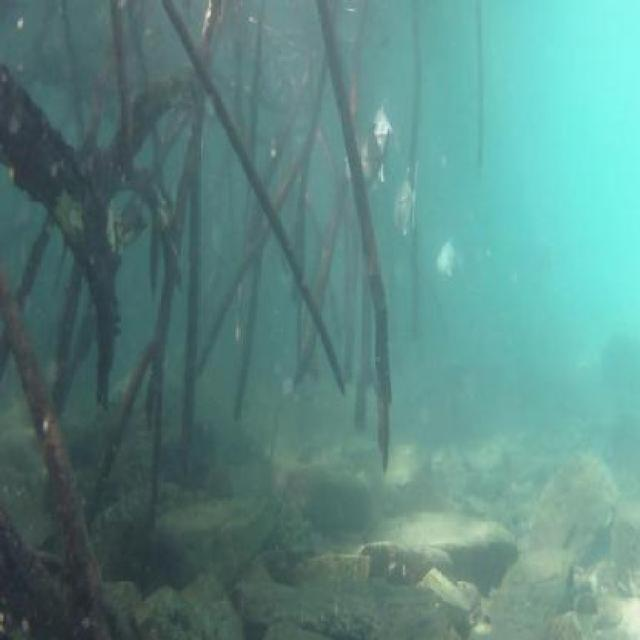Caranx_sexfasciatus_juvenile: (352, 104, 406, 188), (364, 93, 402, 178), (390, 174, 424, 246), (434, 231, 468, 292)
